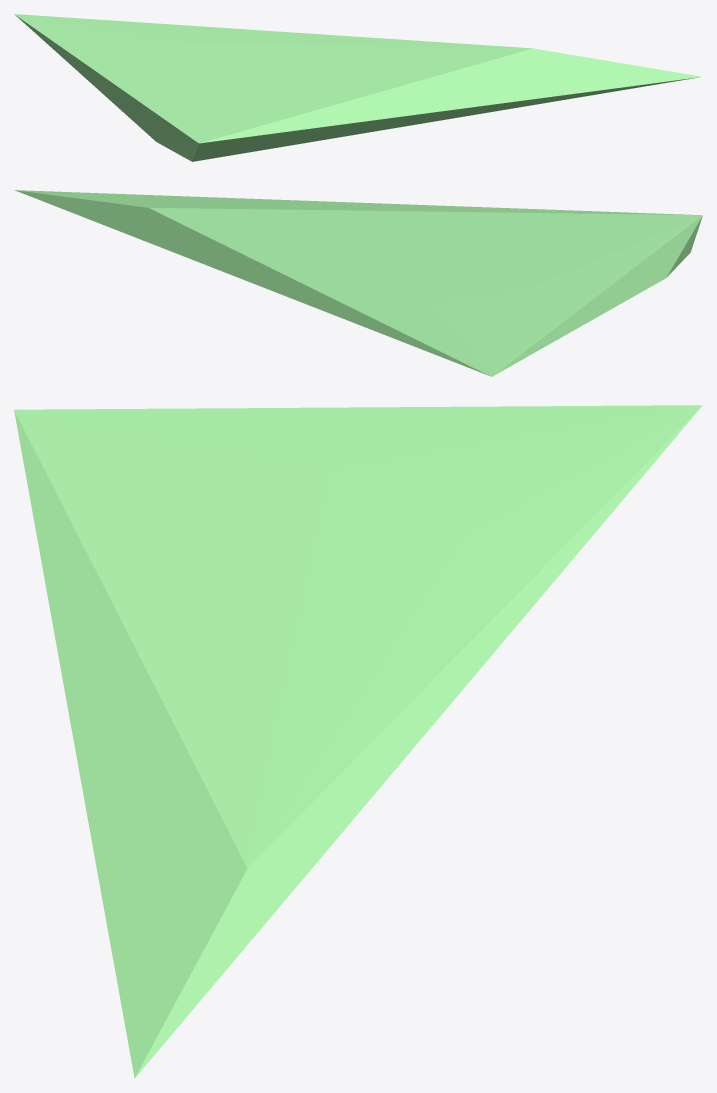
The model's file is UMIRobot_UMIRobot_link_4_convex_coll_17.dae.
3 renders of one model, top to bottom at view 1: azimuth 30°, elevation 25°; view 2: azimuth 150°, elevation 25°; view 3: azimuth 270°, elevation 25°, orthographic. The views are drawn at different scales.
Visible parts, largest first — view 1: node; view 2: node; view 3: node.
Boxes of the visible parts, x1,y1,x2,y2 form: node: (14,14,702,161); node: (14,190,702,376); node: (14,405,702,1078).
Bounding box in the file's own units: 0.0673 × 0.0103 × 0.0386.
